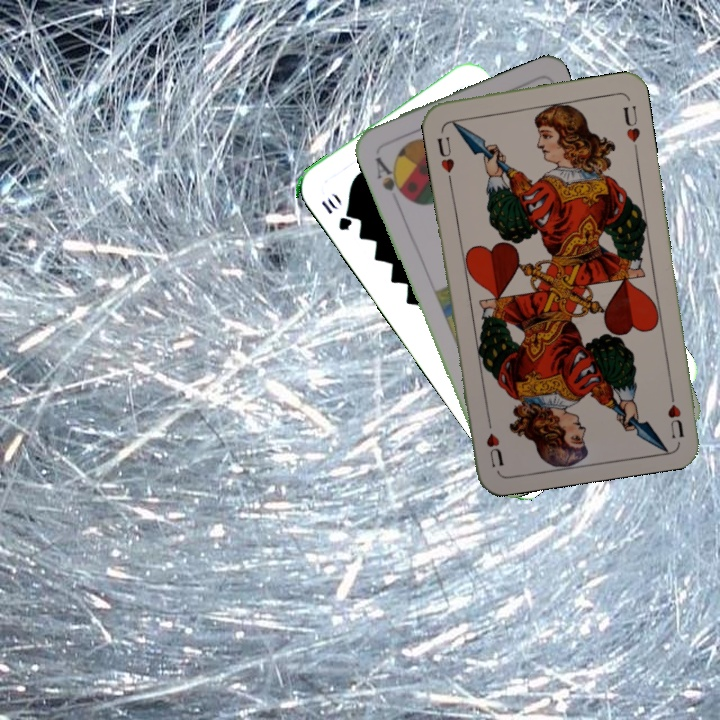G10: (317, 194, 355, 233)
HU: (663, 383, 686, 441), (433, 132, 457, 184)
SA: (371, 152, 409, 201)
